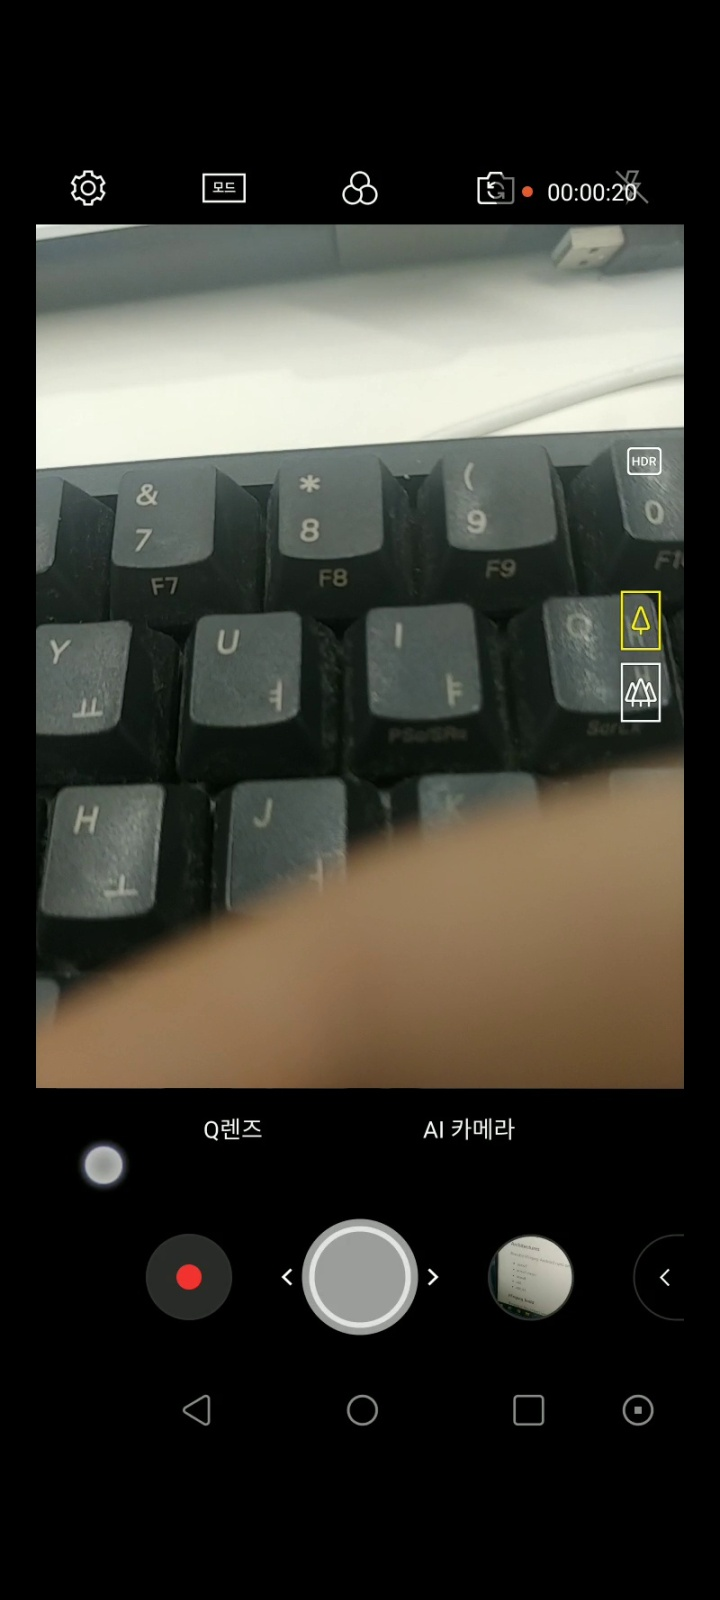Cursor: (81, 1145, 126, 1190)
